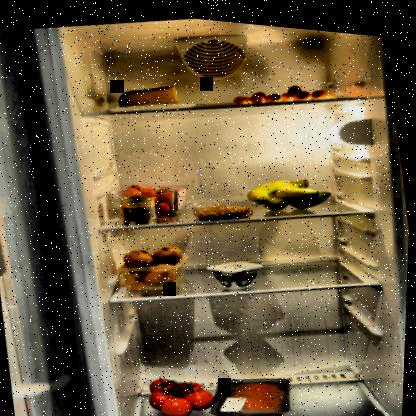banana: (244, 163, 333, 210)
beef: (230, 372, 283, 413)
carrot: (231, 66, 345, 110)
cheese: (116, 76, 184, 114)
corn: (119, 189, 162, 226)
onion: (121, 236, 187, 291)
shrimp: (192, 188, 260, 221)
strawberries: (117, 173, 191, 221)
tomato: (146, 363, 223, 415)
